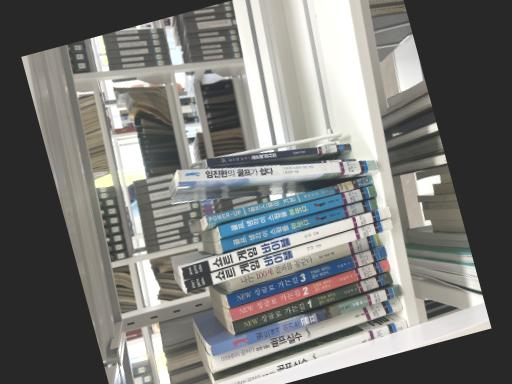book-spine: (183, 217, 393, 291), (181, 205, 390, 278), (210, 296, 402, 370), (210, 284, 401, 354), (216, 319, 408, 384), (226, 244, 386, 306), (228, 258, 389, 319), (232, 271, 392, 332), (229, 232, 380, 289), (219, 197, 377, 250), (217, 184, 377, 236), (204, 174, 372, 223), (177, 158, 378, 180), (206, 142, 351, 165), (209, 157, 356, 167)
